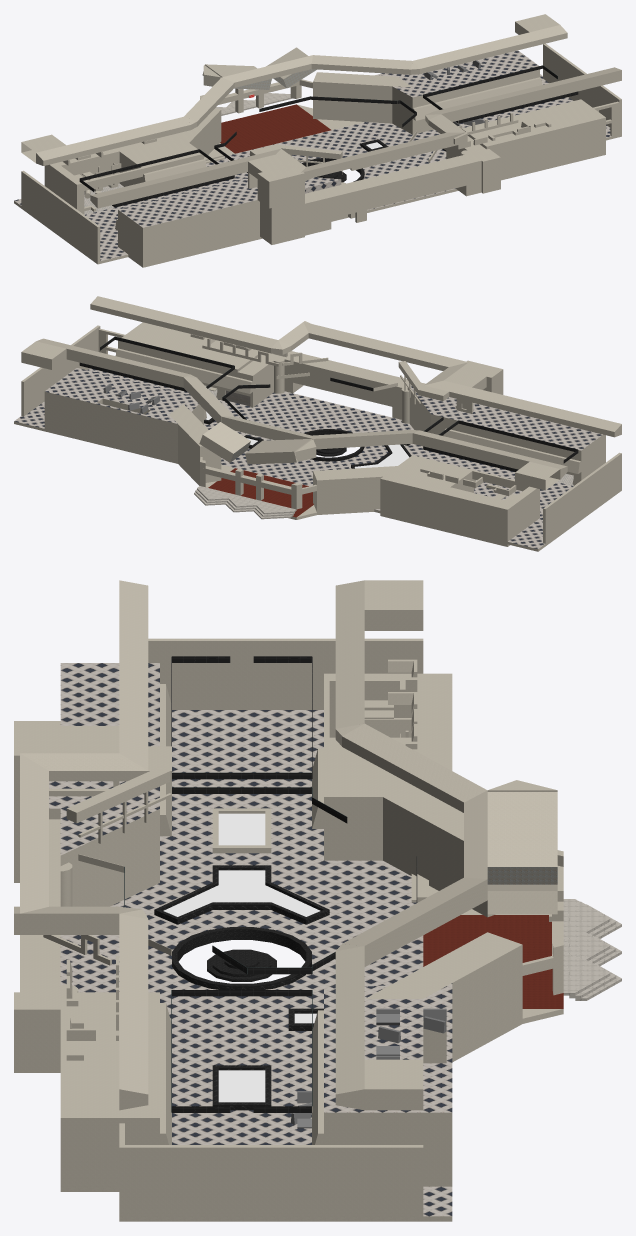
Rendered from floor 1.fbx.
3 renders of one model, top to bottom at view 1: azimuth 30°, elevation 25°; view 2: azimuth 150°, elevation 25°; view 3: azimuth 270°, elevation 25°, orthographic. The views are drawn at different scales.
Visible parts, largest first — view 1: Mall Wall Mesh (1), main mall tile Mesh (1), orangemarb Mesh (1), glass Mesh (1), blaccmarble Mesh (1), Rock 4 Mesh (1), whitemarbl Mesh (1); view 2: Mall Wall Mesh (1), main mall tile Mesh (1), glass Mesh (1), whitemarbl Mesh (1), orangemarb Mesh (1), blaccmarble Mesh (1), New Material Mesh (1), Metal Mesh (1); view 3: Mall Wall Mesh (1), main mall tile Mesh (1), blaccmarble Mesh (1), New Material Mesh (1), glass Mesh (1), orangemarb Mesh (1), whitemarbl Mesh (1), Metal Mesh (1), Rock 4 Mesh (1).
Boxes of the visible parts, left/top/right/bottom form: Mall Wall Mesh (1): left=14, top=14, right=621, bottom=267; main mall tile Mesh (1): left=14, top=50, right=611, bottom=260; orangemarb Mesh (1): left=220, top=104, right=331, bottom=153; glass Mesh (1): left=79, top=65, right=578, bottom=207; blaccmarble Mesh (1): left=301, top=139, right=446, bottom=182; Rock 4 Mesh (1): left=234, top=69, right=317, bottom=89; whitemarbl Mesh (1): left=215, top=93, right=292, bottom=115; Mall Wall Mesh (1): left=14, top=296, right=621, bottom=551; main mall tile Mesh (1): left=14, top=368, right=602, bottom=548; glass Mesh (1): left=79, top=336, right=578, bottom=471; whitemarbl Mesh (1): left=194, top=486, right=296, bottom=519; orangemarb Mesh (1): left=208, top=468, right=313, bottom=517; blaccmarble Mesh (1): left=204, top=418, right=411, bottom=468; New Material Mesh (1): left=205, top=411, right=476, bottom=480; Metal Mesh (1): left=103, top=383, right=160, bottom=413; Mall Wall Mesh (1): left=14, top=580, right=563, bottom=1221; main mall tile Mesh (1): left=49, top=663, right=452, bottom=1216; blaccmarble Mesh (1): left=154, top=865, right=329, bottom=1110; New Material Mesh (1): left=163, top=813, right=320, bottom=1102; glass Mesh (1): left=171, top=656, right=417, bottom=1112; orangemarb Mesh (1): left=423, top=915, right=563, bottom=1008; whitemarbl Mesh (1): left=563, top=899, right=621, bottom=1000; Metal Mesh (1): left=290, top=1008, right=446, bottom=1128; Rock 4 Mesh (1): left=487, top=867, right=557, bottom=884.
Bounding box in the file's own units: 206 × 26 × 104.
